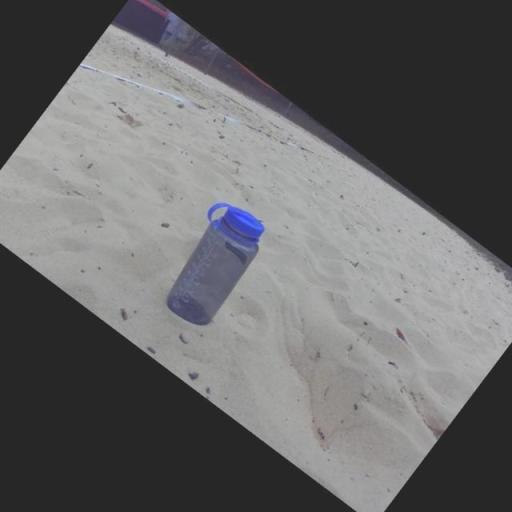bottle: (144, 191, 279, 336)
